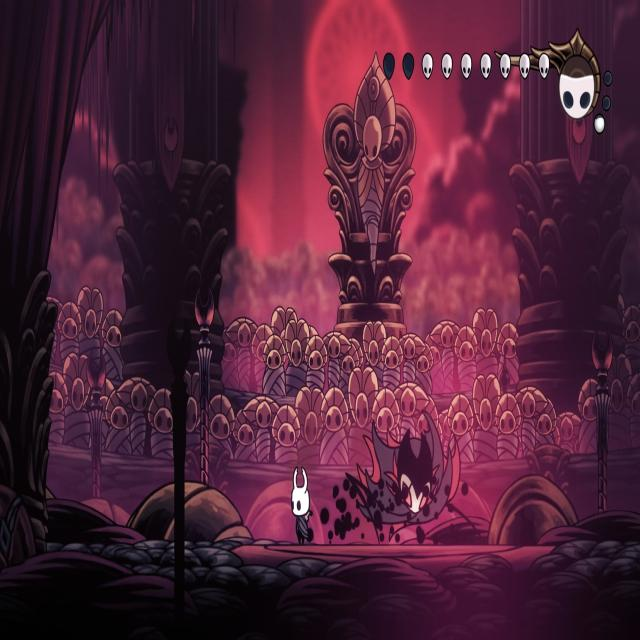Dash Uppercut: (342, 394, 487, 546)
Player: (288, 464, 314, 547)
